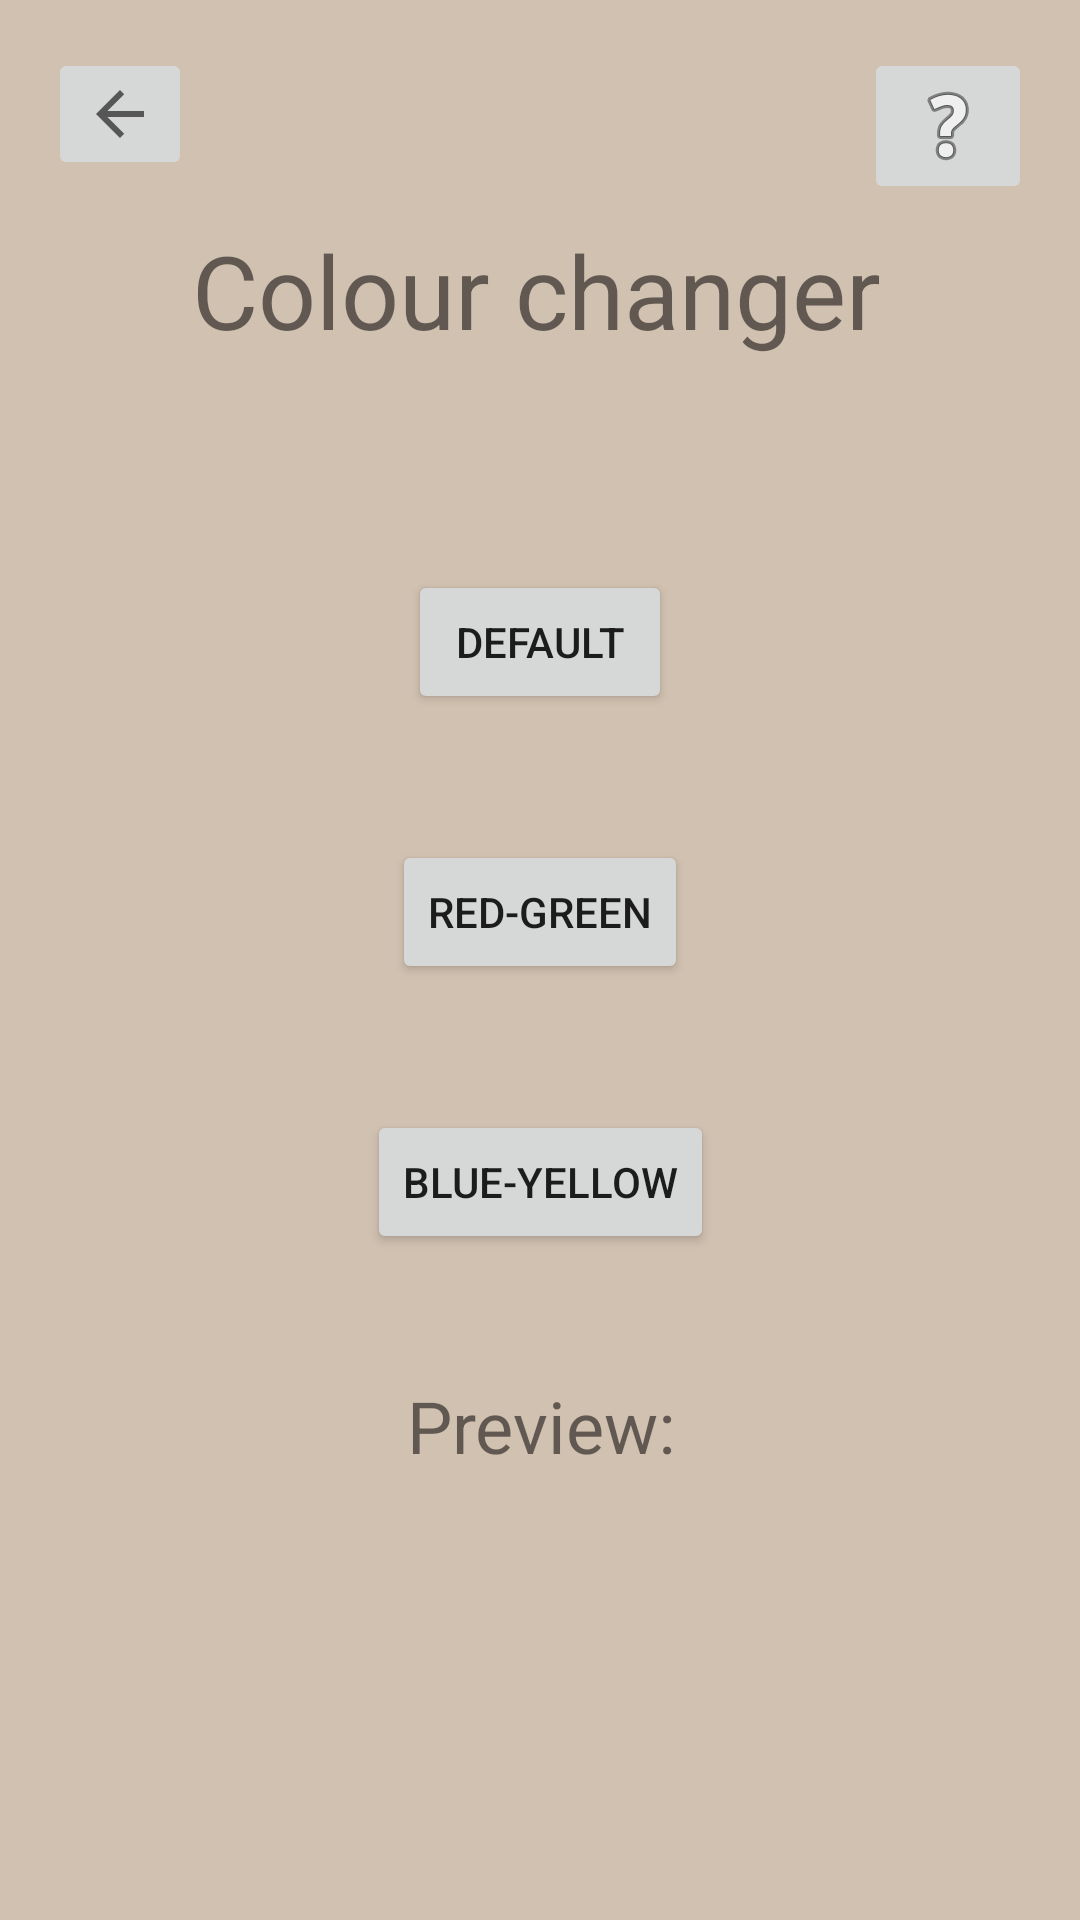

Screen size 1080px x 1920px. Icon name, then its center in pixels as (x=x, y=y):
help: (x=948, y=126)
